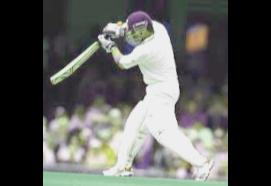batsman: (55, 0, 219, 185)
